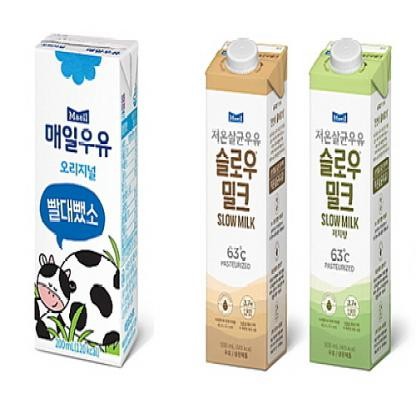tetra: (23, 20, 145, 374), (302, 19, 398, 386), (197, 26, 296, 380)
